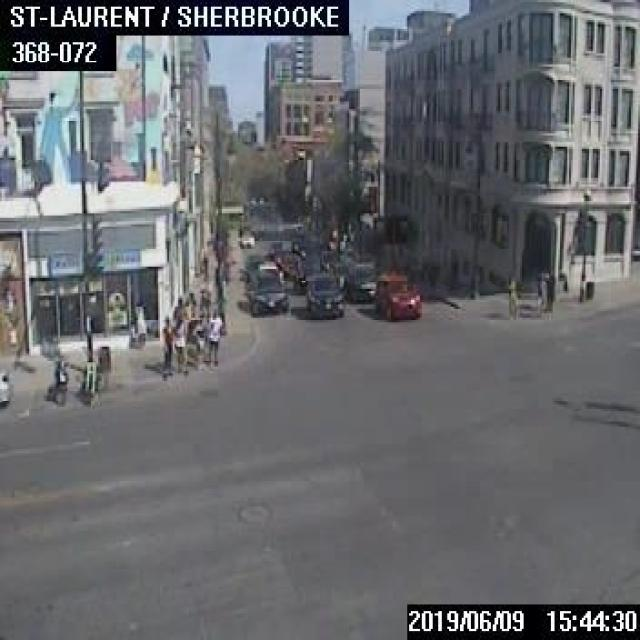pedestrian: (159, 314, 172, 378), (206, 306, 220, 364), (534, 267, 551, 311), (51, 349, 65, 400), (173, 316, 184, 372), (506, 267, 518, 313), (196, 285, 210, 315), (170, 294, 183, 318), (184, 290, 195, 316)
vehicle: (372, 273, 420, 319), (244, 271, 287, 313), (304, 271, 342, 316), (344, 261, 380, 300), (292, 269, 318, 293), (258, 262, 282, 283), (0, 366, 9, 406), (238, 227, 255, 244)
